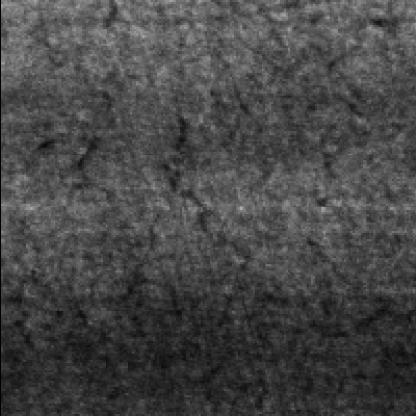crazing: (119, 106, 237, 380), (296, 54, 374, 343), (31, 6, 114, 228)
